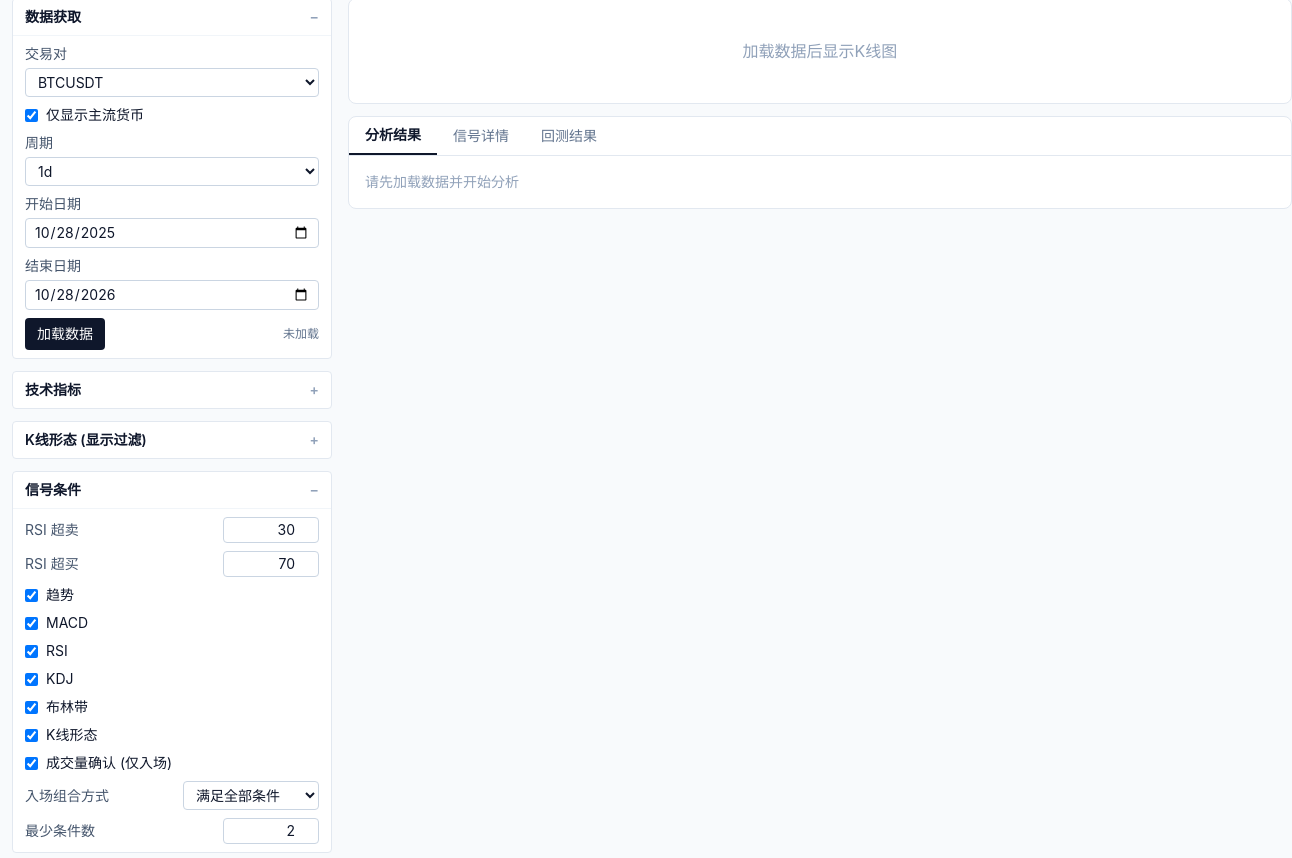
Test: AnalysisPage › runs analysis then backtest and fills the result tabs
Click the button "加载数据": (65, 334) [25,318,105,350]
(page scrolled)
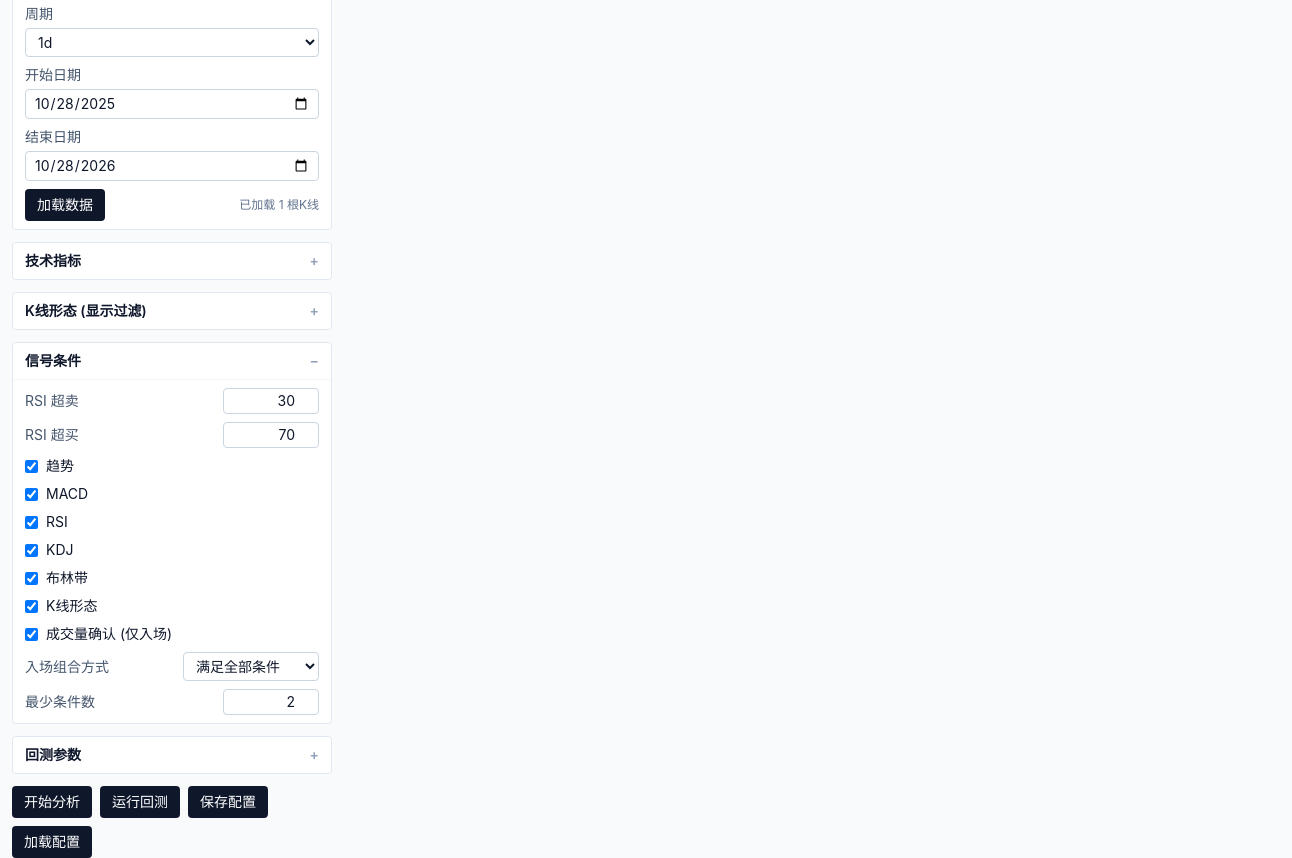
Click the button "开始分析": (52, 802) [12,786,92,818]
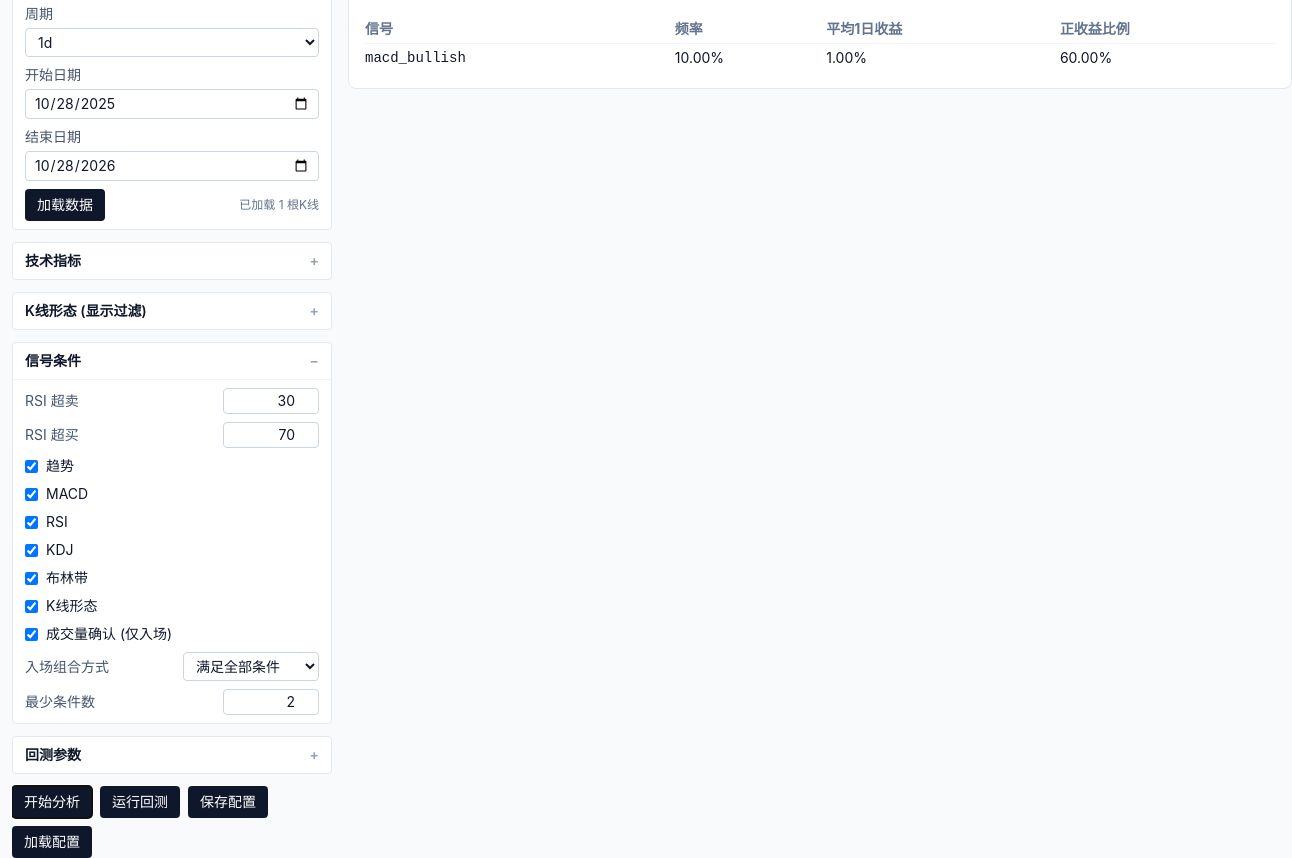
Expected: the text "macd_bullish" is shown, [365,44,675,72]
Click the button "运行回测": (140, 802) [100,786,180,818]
(page scrolled)
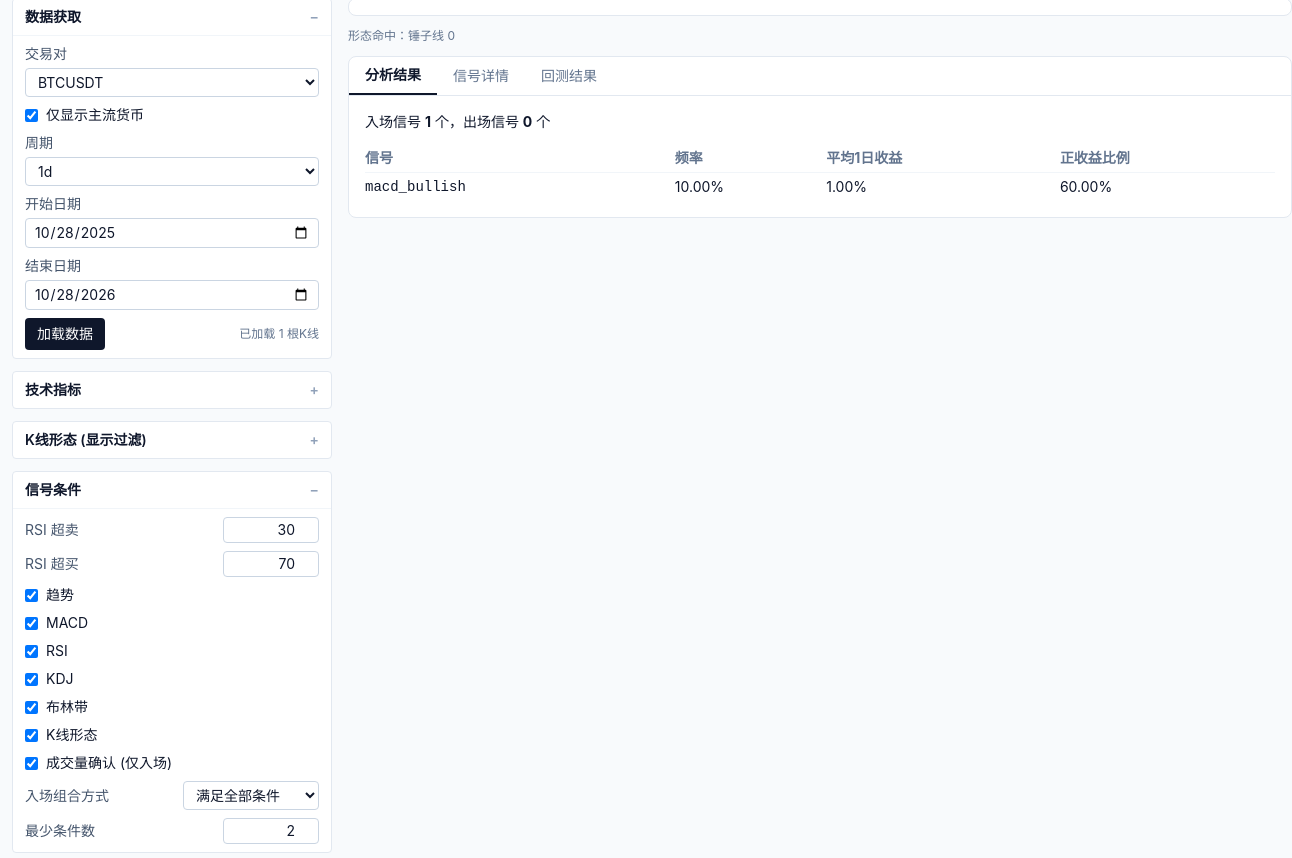
Click the tab "回测结果": (569, 76) [525,57,613,95]
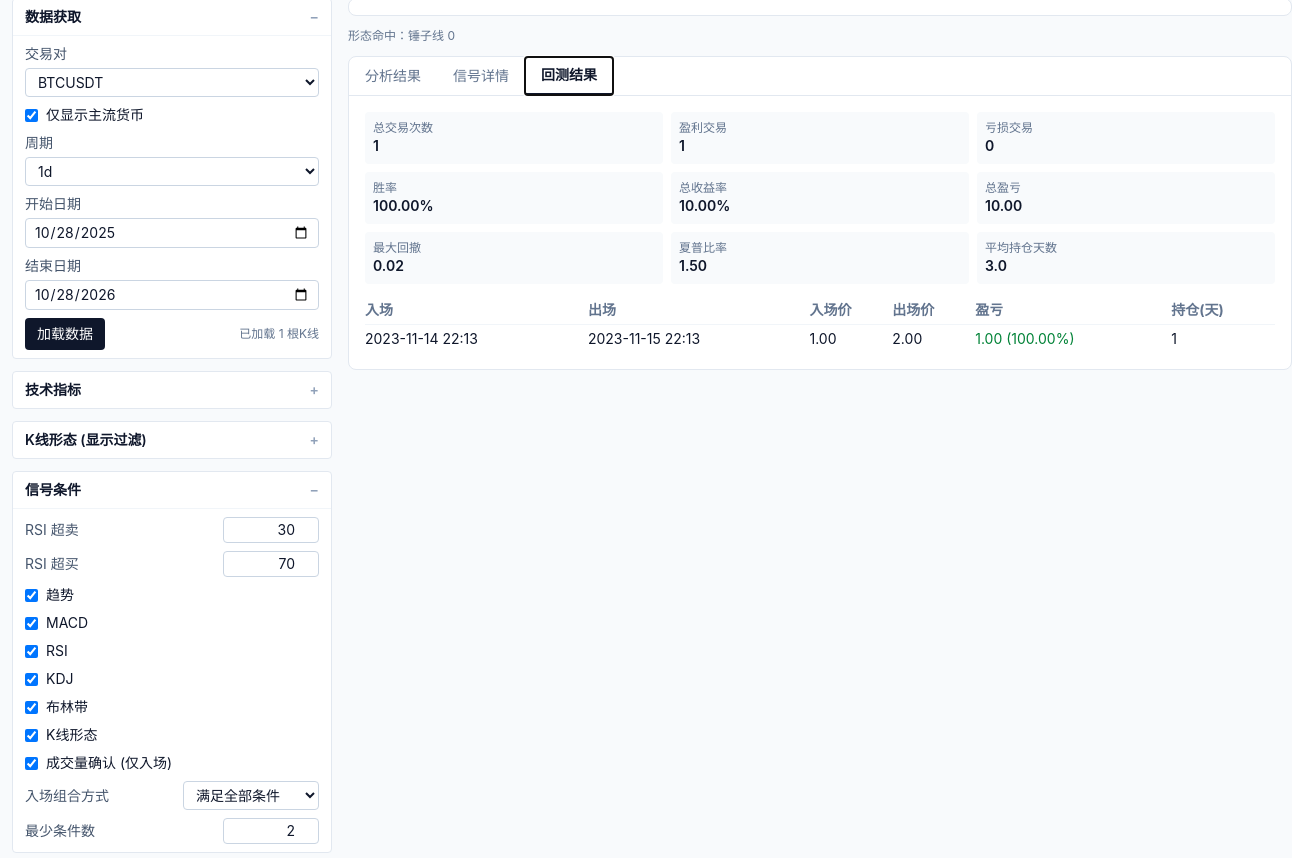
Expected: the text "总交易次数" is shown, [373,120,433,135]
